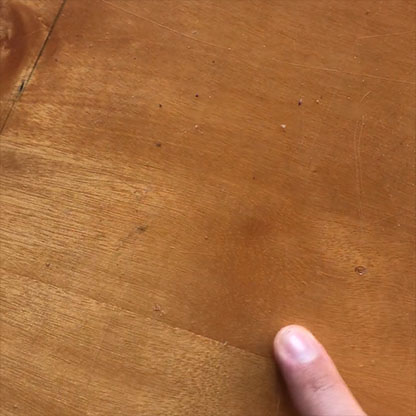fingertip: (265, 311, 336, 377)
